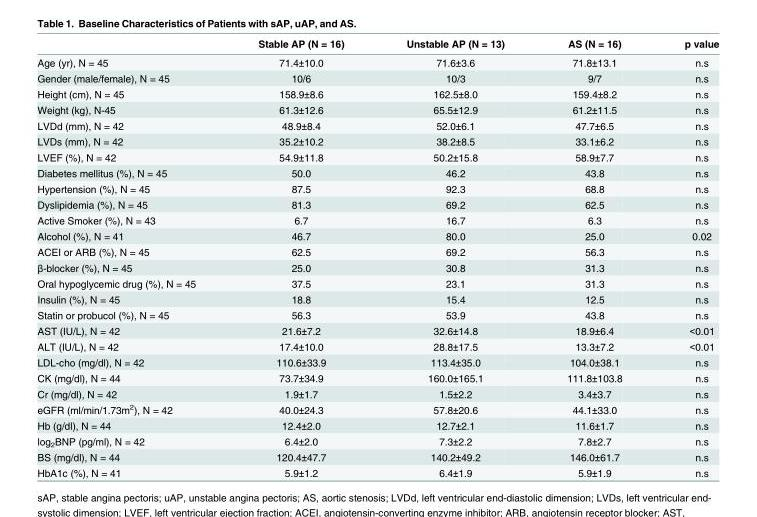table: (36, 37, 718, 478)
table column: (36, 37, 226, 478), (374, 37, 534, 478), (226, 37, 374, 478), (534, 37, 652, 478), (652, 37, 718, 478)
table column header: (36, 37, 718, 52)
table row: (36, 52, 718, 70), (36, 400, 718, 417), (36, 85, 718, 101), (36, 101, 718, 117), (36, 117, 718, 133), (36, 148, 718, 164), (36, 164, 718, 180), (36, 180, 718, 196), (36, 196, 718, 212), (36, 227, 718, 243), (36, 243, 718, 259), (36, 259, 718, 275), (36, 290, 718, 306), (36, 306, 718, 322), (36, 322, 718, 338), (36, 338, 718, 354), (36, 369, 718, 385), (36, 417, 718, 433), (36, 433, 718, 449), (36, 37, 718, 52), (36, 70, 718, 85), (36, 133, 718, 148), (36, 212, 718, 227), (36, 275, 718, 290), (36, 354, 718, 369), (36, 385, 718, 400), (36, 449, 718, 464), (36, 464, 718, 478)
